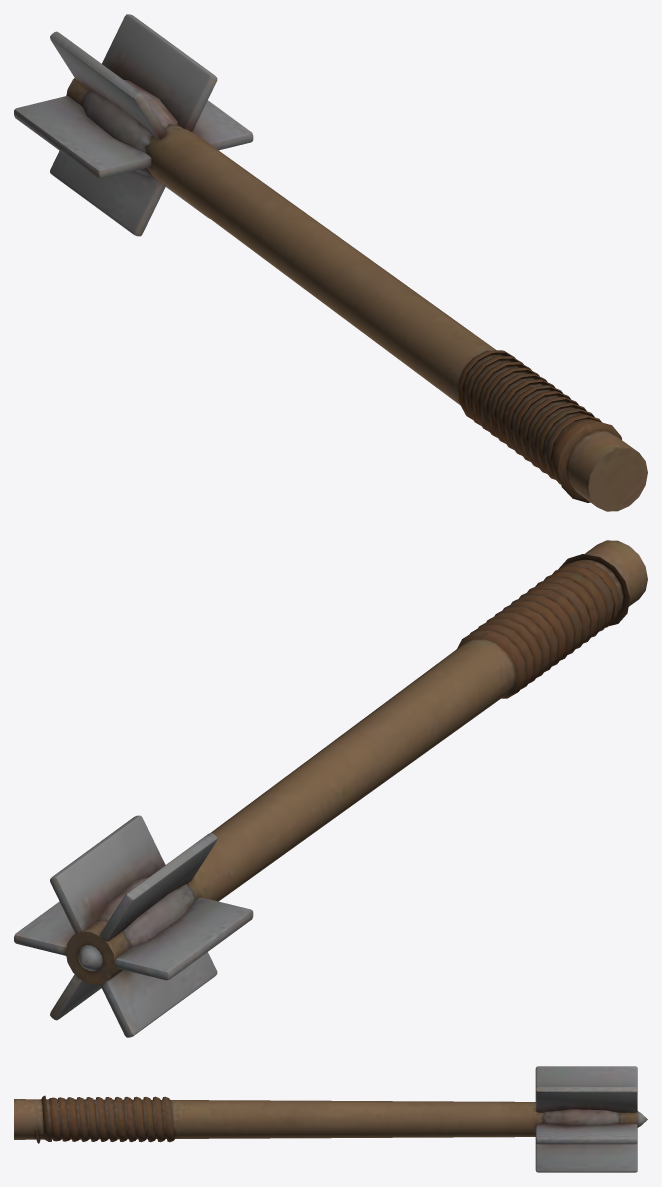
Rendered from ribbed_mace.glb.
The picture shows the model from 3 angles, top to bottom: view 1: azimuth 30°, elevation 25°; view 2: azimuth 150°, elevation 25°; view 3: azimuth 270°, elevation 25°; orthographic projection. The views are drawn at different scales.
Visible parts, largest first — view 1: ribbed_mace; view 2: ribbed_mace; view 3: ribbed_mace.
Boxes of the visible parts, x1,y1,x2,y2 form: ribbed_mace: (14,14,647,511); ribbed_mace: (14,540,647,1037); ribbed_mace: (14,1066,647,1172).
Size of the model in its own units: 0.094 by 0.0828 by 0.559.
Materials: 1 (1 with a texture image).
